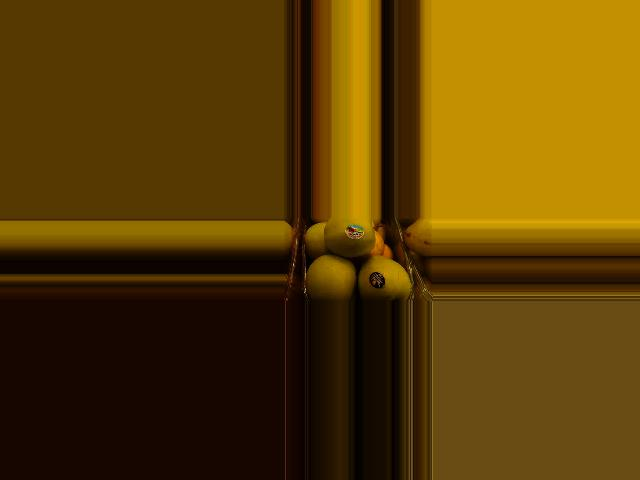apple: (322, 218, 380, 257)
